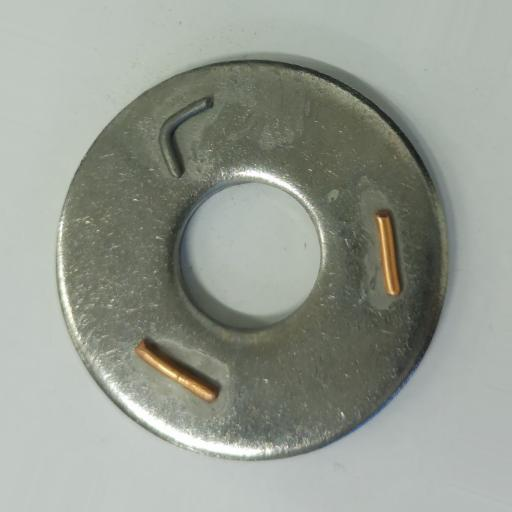excess_material: (133, 337, 222, 404), (157, 93, 216, 181), (374, 209, 401, 298)
